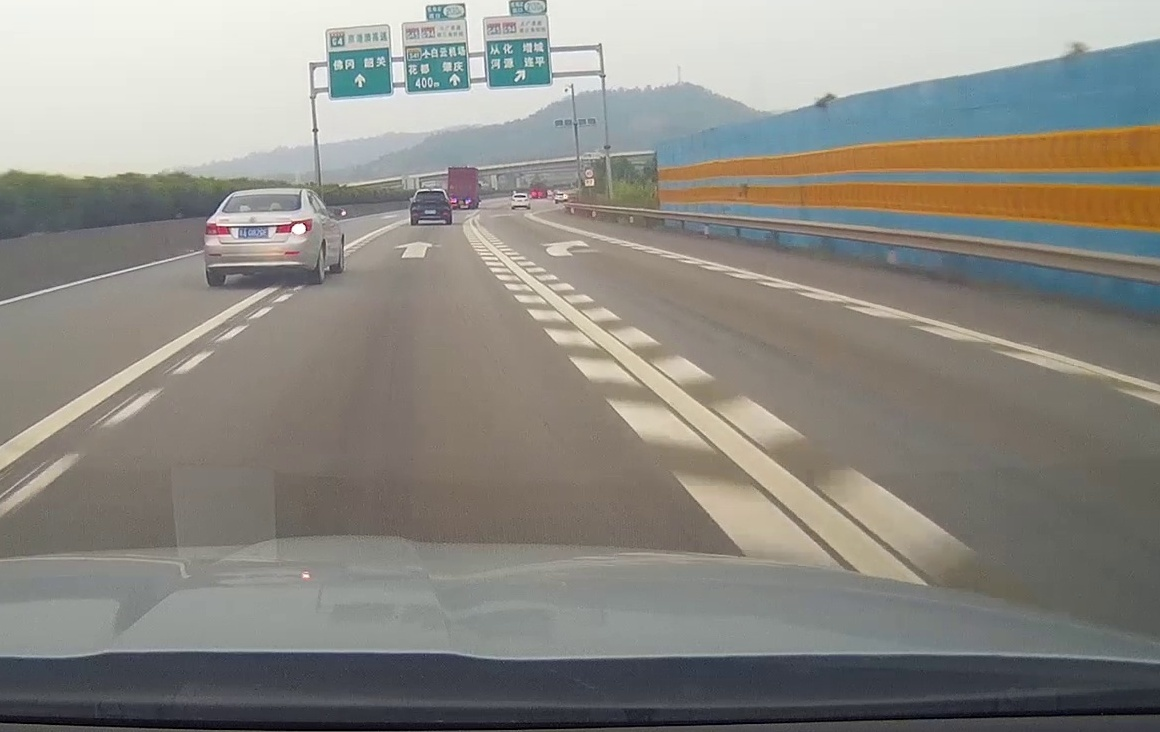L_light: (206, 221, 230, 236)
R_light: (276, 218, 312, 233)
T_light: (259, 194, 273, 198)
day-right: (203, 188, 316, 287)
